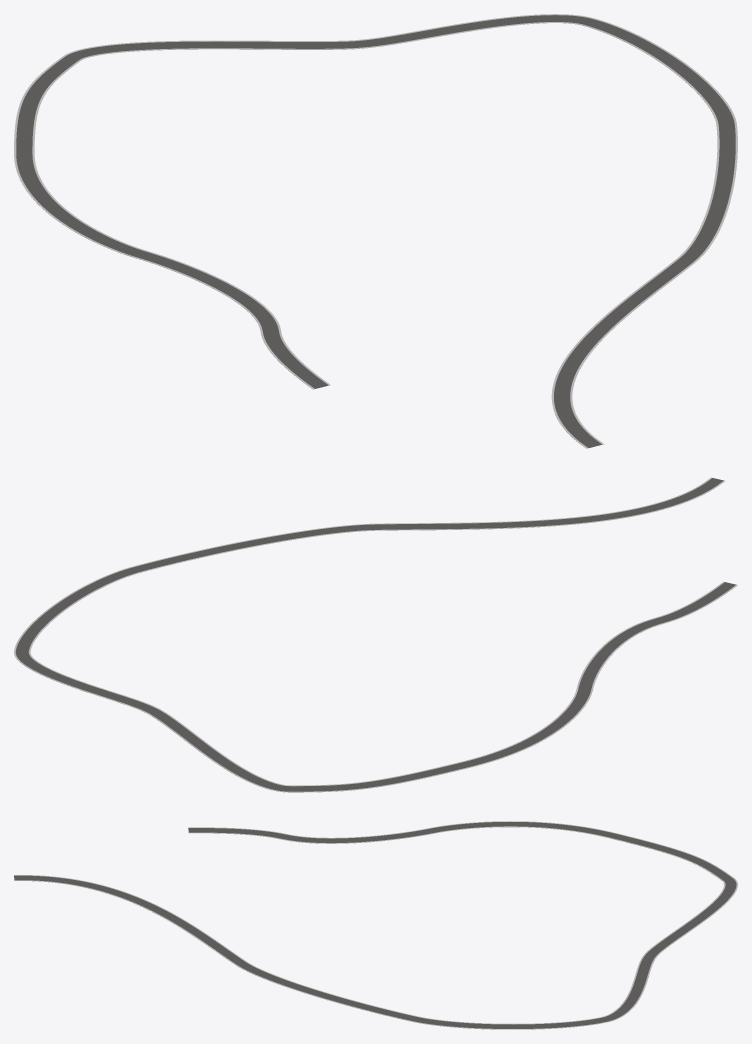
File: Road.fbx
3 renders of one model, top to bottom at view 1: azimuth 30°, elevation 25°; view 2: azimuth 150°, elevation 25°; view 3: azimuth 270°, elevation 25°, orthographic. The views are drawn at different scales.
Parts seen in each view (by area): view 1: Road; view 2: Road; view 3: Road.
Boxes of the visible parts, box(x1,y1,x2,y2) form: Road: box(14, 14, 737, 448); Road: box(14, 477, 737, 792); Road: box(14, 821, 737, 1029).
Bounding box in the file's own units: 72032 × 19.94 × 105689.
